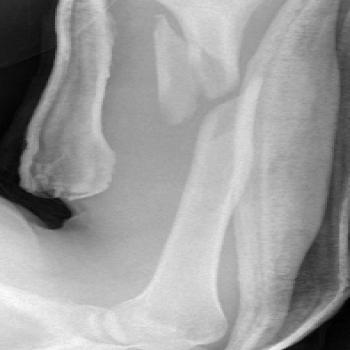Fracture: (153, 74, 258, 126), (153, 14, 228, 58)
